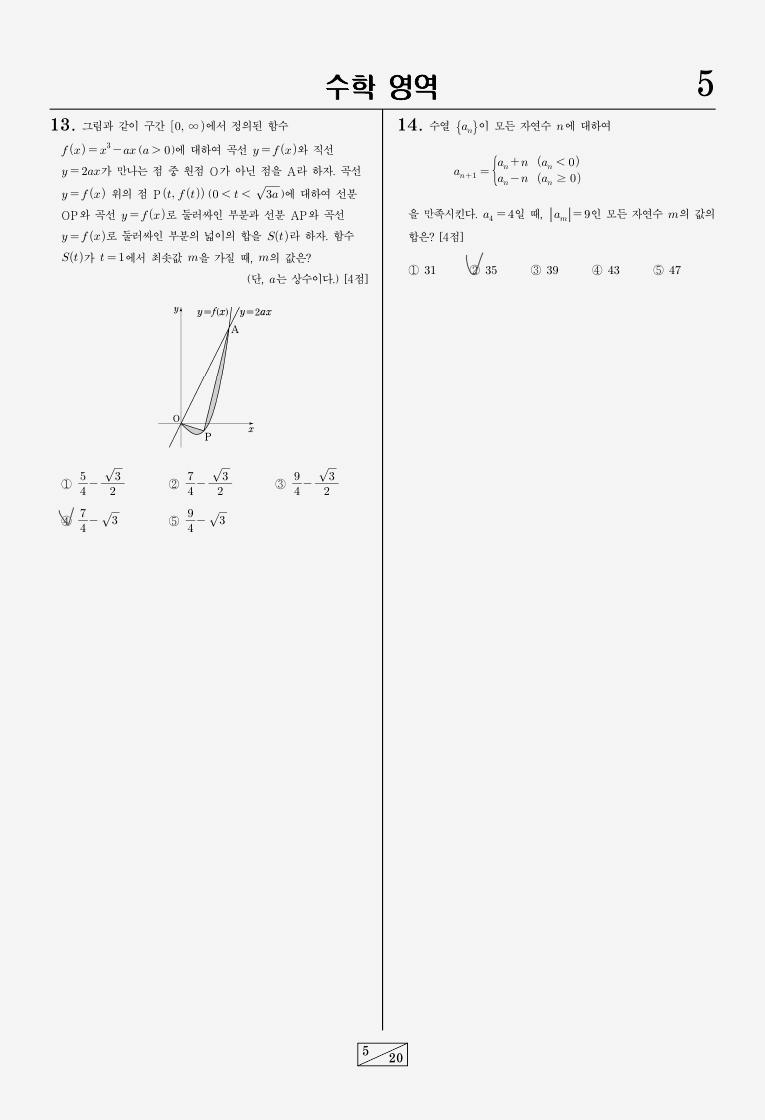question: (30, 109, 380, 558), (386, 112, 726, 300)
